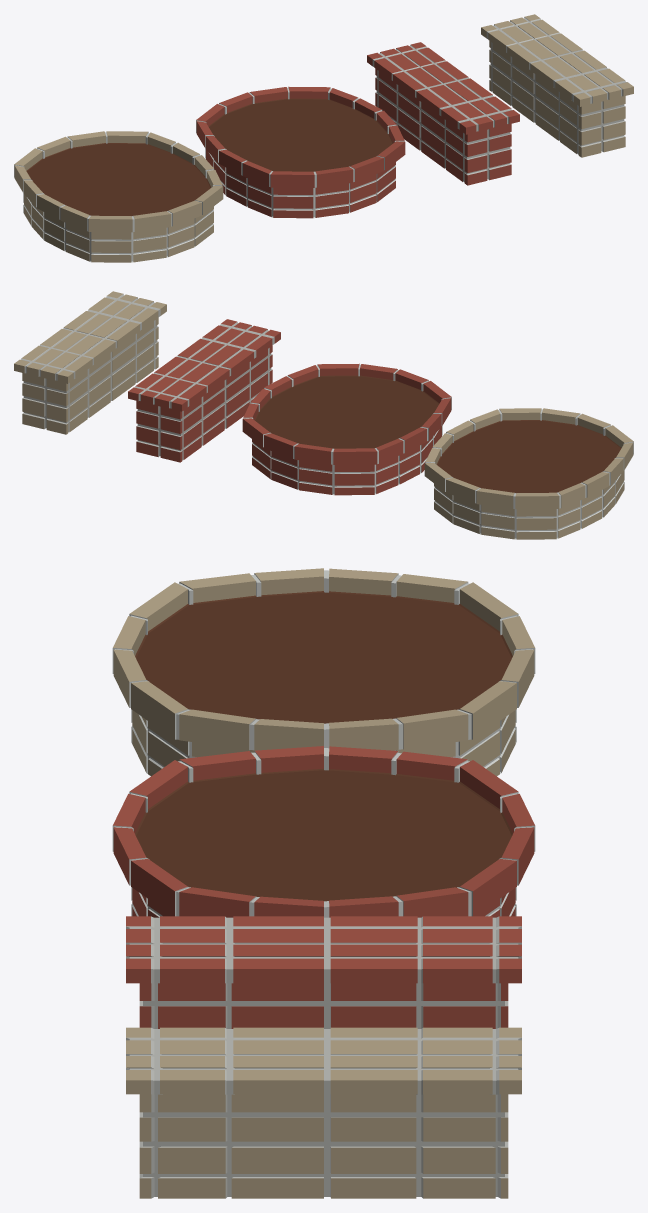
The model's file is brick_planters.glb.
3 renders of one model, top to bottom at view 1: azimuth 30°, elevation 25°; view 2: azimuth 150°, elevation 25°; view 3: azimuth 270°, elevation 25°, orthographic. The views are drawn at different scales.
Visible parts, largest first — view 1: Beige Brick Planter, Tree Planter, Beige Brick Half Wall, Red Brick Half Wall; view 2: Beige Brick Planter, Tree Planter, Beige Brick Half Wall, Red Brick Half Wall; view 3: Beige Brick Planter, Beige Brick Half Wall, Tree Planter, Red Brick Half Wall.
Part boxes in pixels (<box>): Beige Brick Planter: <box>14,131,223,262</box>; Tree Planter: <box>196,86,405,218</box>; Beige Brick Half Wall: <box>481,14,633,157</box>; Red Brick Half Wall: <box>367,42,519,185</box>; Beige Brick Planter: <box>424,408,633,539</box>; Tree Planter: <box>242,363,451,495</box>; Beige Brick Half Wall: <box>14,291,166,434</box>; Red Brick Half Wall: <box>128,319,280,462</box>; Beige Brick Planter: <box>112,568,535,776</box>; Beige Brick Half Wall: <box>126,1027,521,1198</box>; Tree Planter: <box>112,746,535,917</box>; Red Brick Half Wall: <box>126,916,521,1028</box>.
Bounding box in the file's own units: 698 × 75.11 × 233.
1 material, 1 textured.
